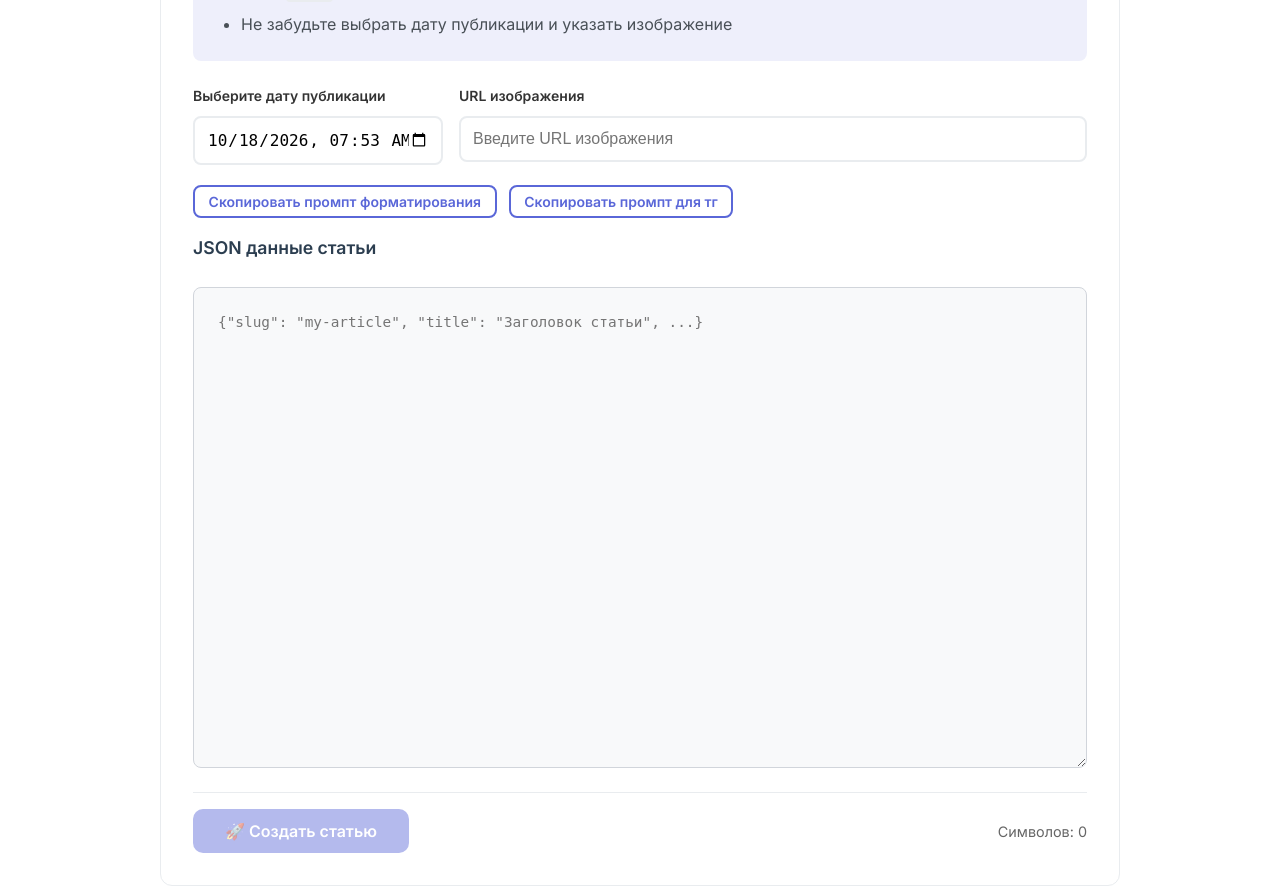
Test: CreateArticlePage › disables submit until there is valid JSON
(page scrolled)
Expected: the button "🚀 Создать статью" is disabled, [193,809,409,853]
Click the text box labelled "JSON данные статьи". click: (640,527)
box: [193,287,1087,768]
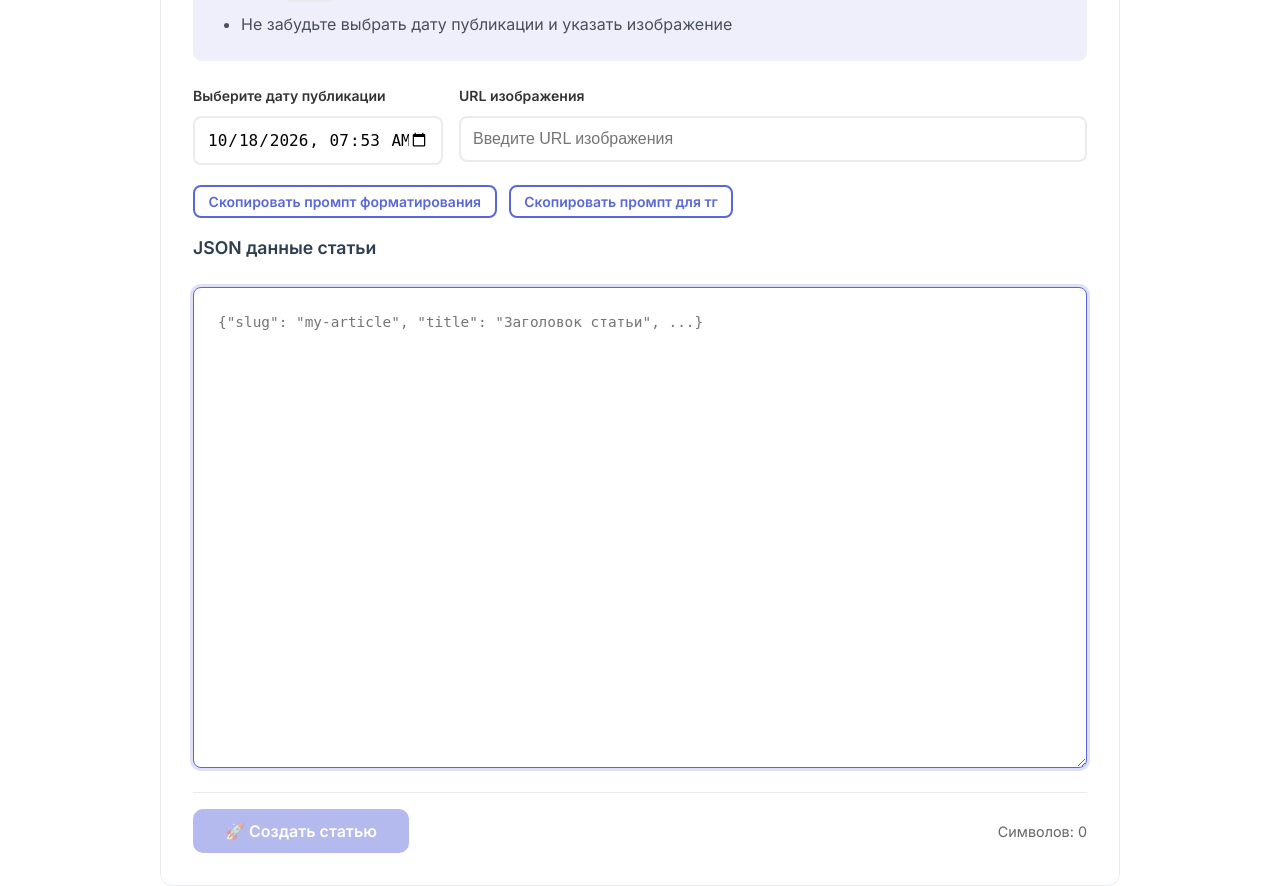
Type keys "{ broken"
(page scrolled)
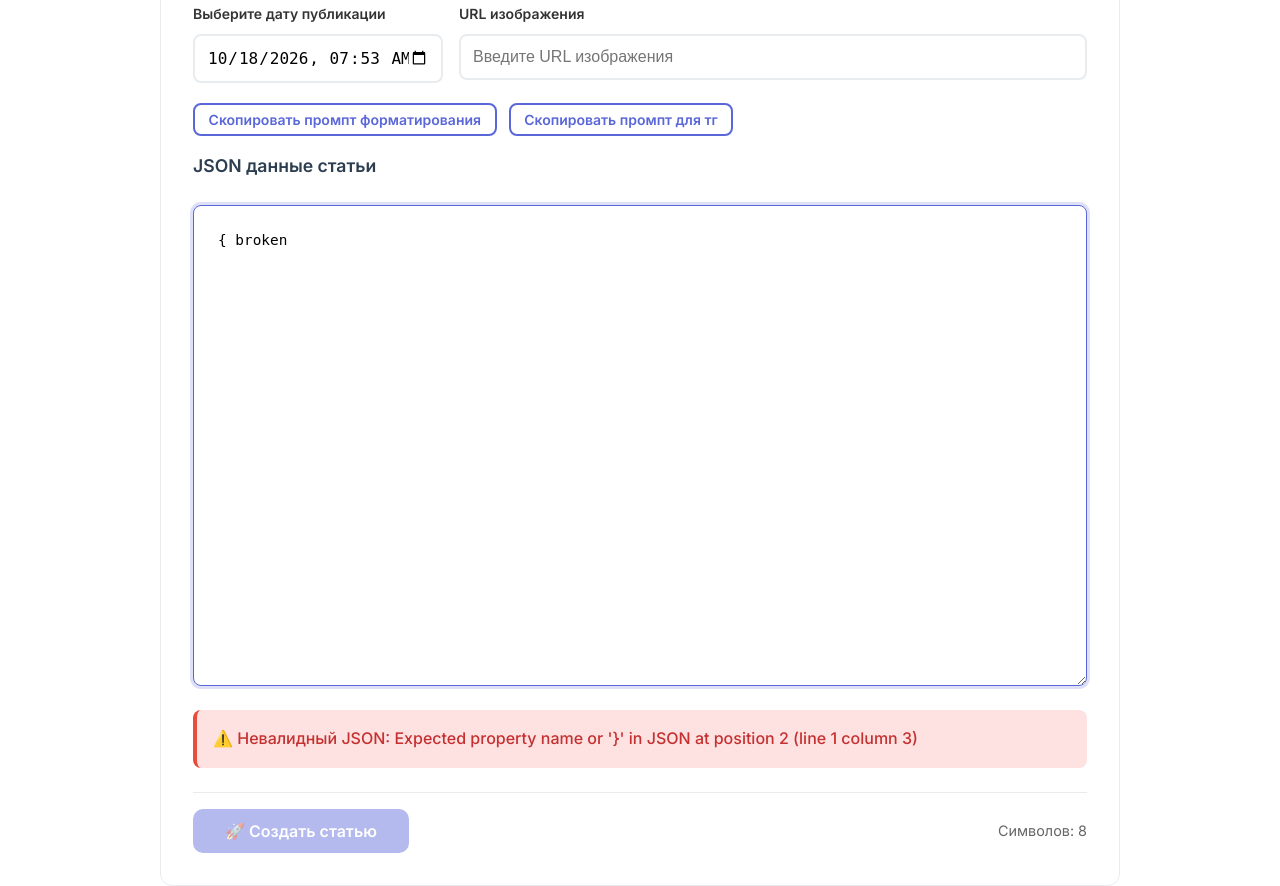
Expected: the button "🚀 Создать статью" is disabled, [193,809,409,853]
Expected: the message shows "Невалидный JSON", [237,728,918,748]
